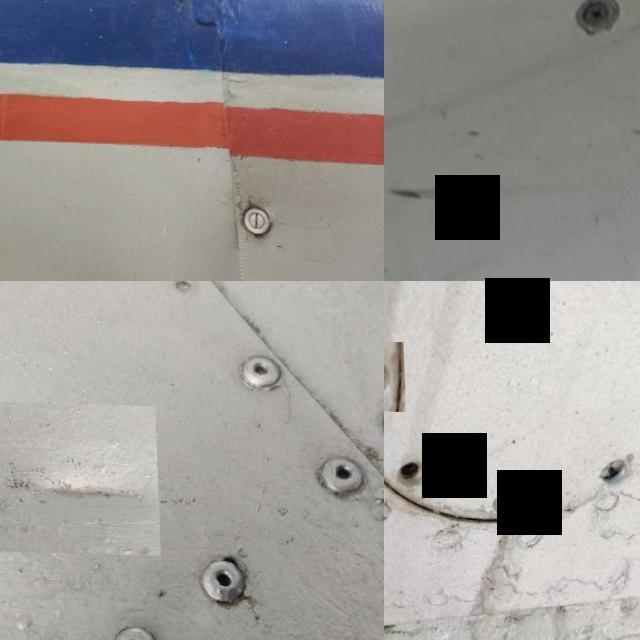Dent: (0, 399, 157, 554)
Missing_Fastener: (384, 439, 445, 506), (384, 338, 405, 410)
